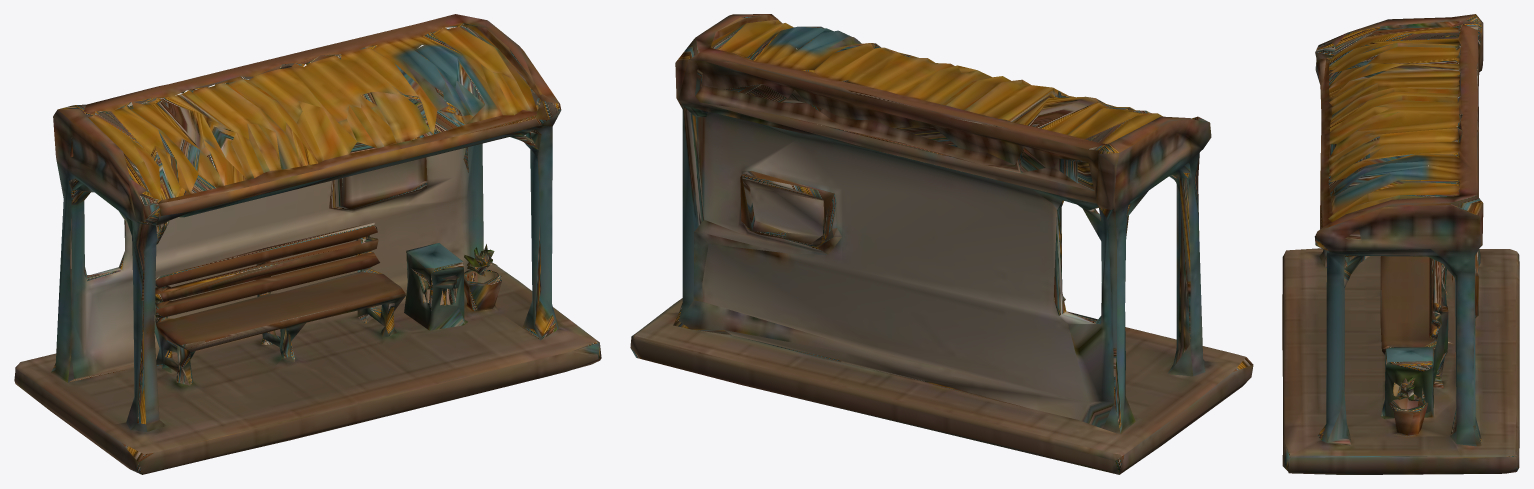
Rendered from shelter.glb.
3 views of the same model, side by side, from view 1: azimuth 30°, elevation 25°; view 2: azimuth 150°, elevation 25°; view 3: azimuth 270°, elevation 25° (orthographic). The views are drawn at different scales.
Visible parts, largest first — view 1: tripo_node_d248f4d7; view 2: tripo_node_d248f4d7; view 3: tripo_node_d248f4d7.
Part boxes in pixels (<box>): tripo_node_d248f4d7: <box>14,14,601,474</box>; tripo_node_d248f4d7: <box>630,14,1253,474</box>; tripo_node_d248f4d7: <box>1282,14,1519,474</box>.
Bounding box in the file's own units: 97.69 × 57.39 × 46.77.
1 material, 1 textured.
